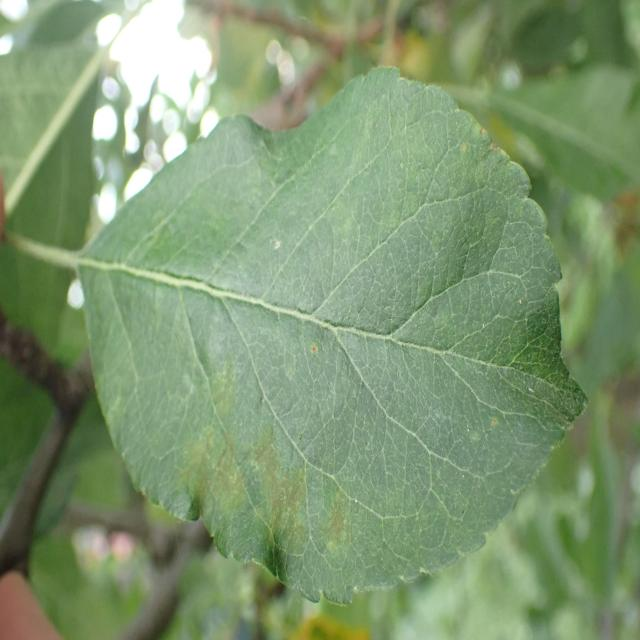scab: (84, 146, 524, 577)
